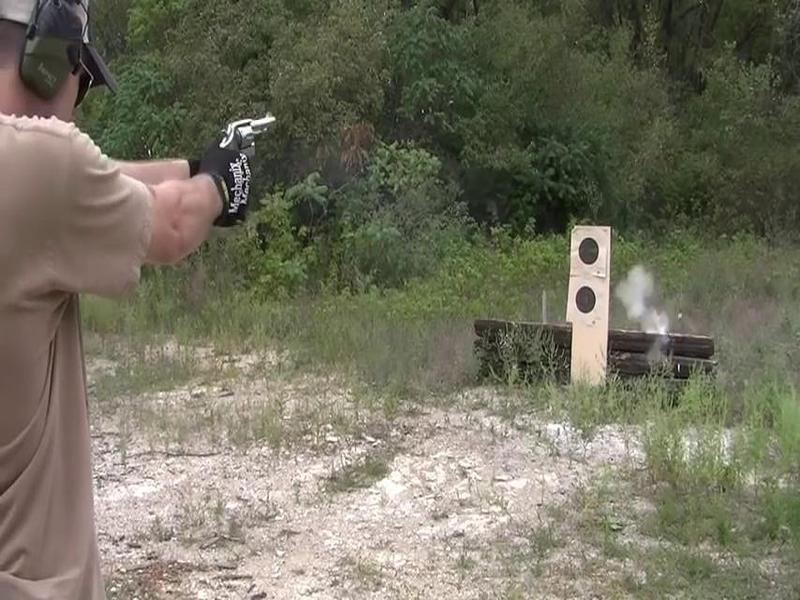Revolver: (209, 92, 295, 184)
